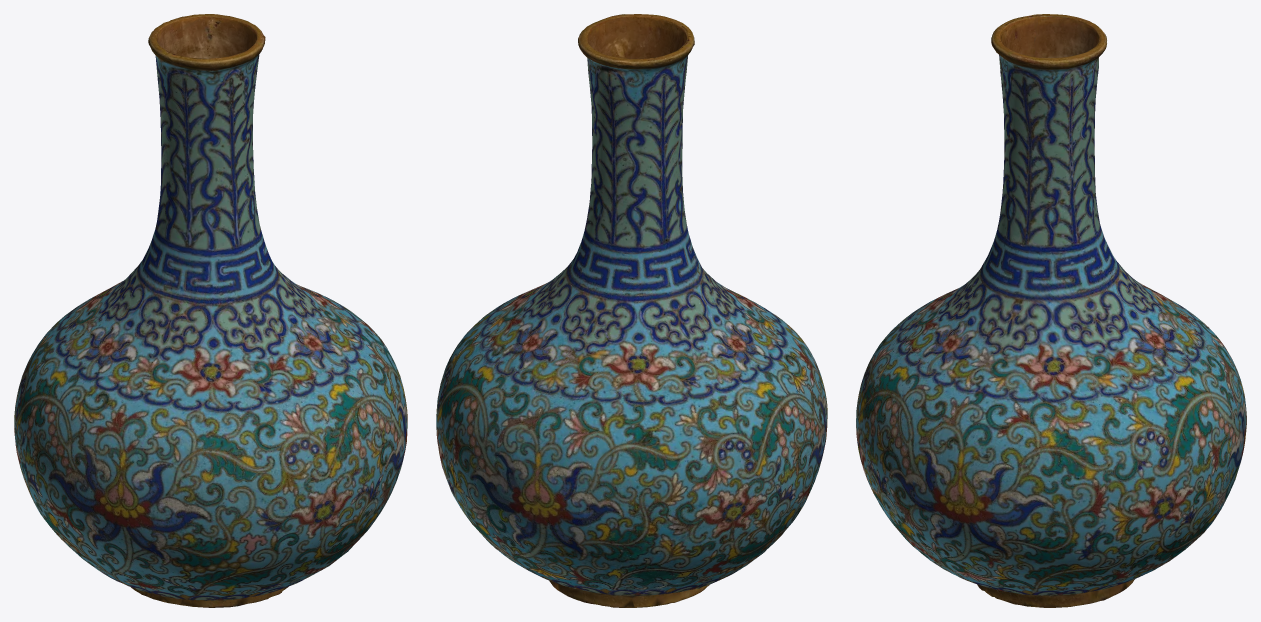
File: vase.glb
The picture shows the model from 3 angles, left to right: view 1: azimuth 30°, elevation 25°; view 2: azimuth 150°, elevation 25°; view 3: azimuth 270°, elevation 25°; orthographic projection.
Visible parts, largest first — view 1: Object_2; view 2: Object_2; view 3: Object_2.
Boxes of the visible parts, x1,y1,x2,y2 form: Object_2: (14, 14, 407, 607); Object_2: (436, 14, 827, 607); Object_2: (856, 14, 1246, 607).
Bounding box in the file's own units: 0.2982 × 0.453 × 0.299.
1 material, 1 textured.
